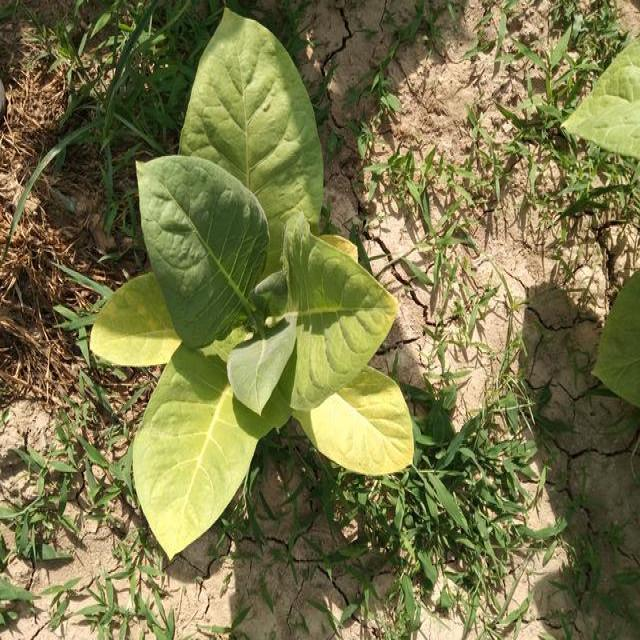crop: (88, 11, 418, 568)
